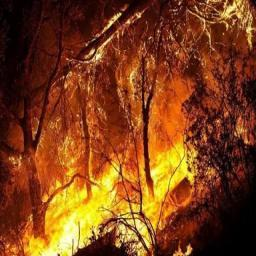Medium fire: (0, 122, 212, 253)
Small fire: (65, 3, 153, 67), (190, 0, 254, 51)
